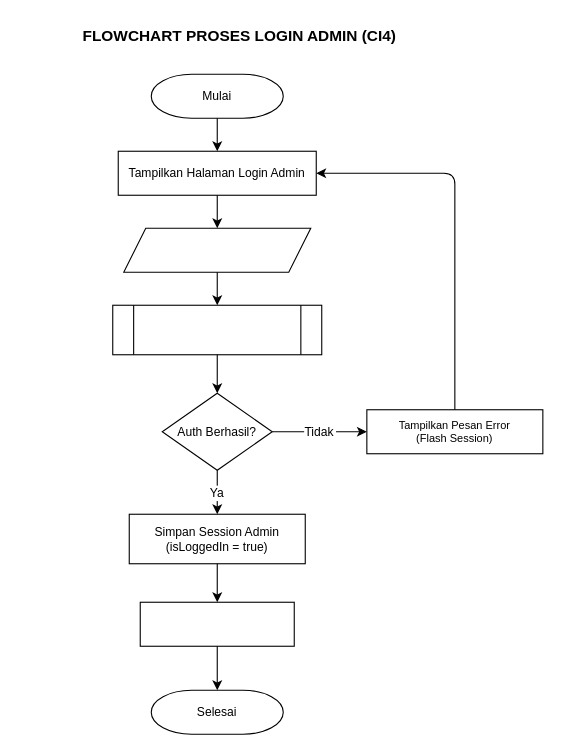
Some shapes in this 562 by 754 pixel diagram are drawn without their labels. Each missing label, with the box of its shape:
Input Username & Password: (123, 227, 311, 272)
Proses Auth::prosesLoginAdmin: (112, 304, 322, 355)
Redirect ke /admin: (139, 601, 294, 646)
